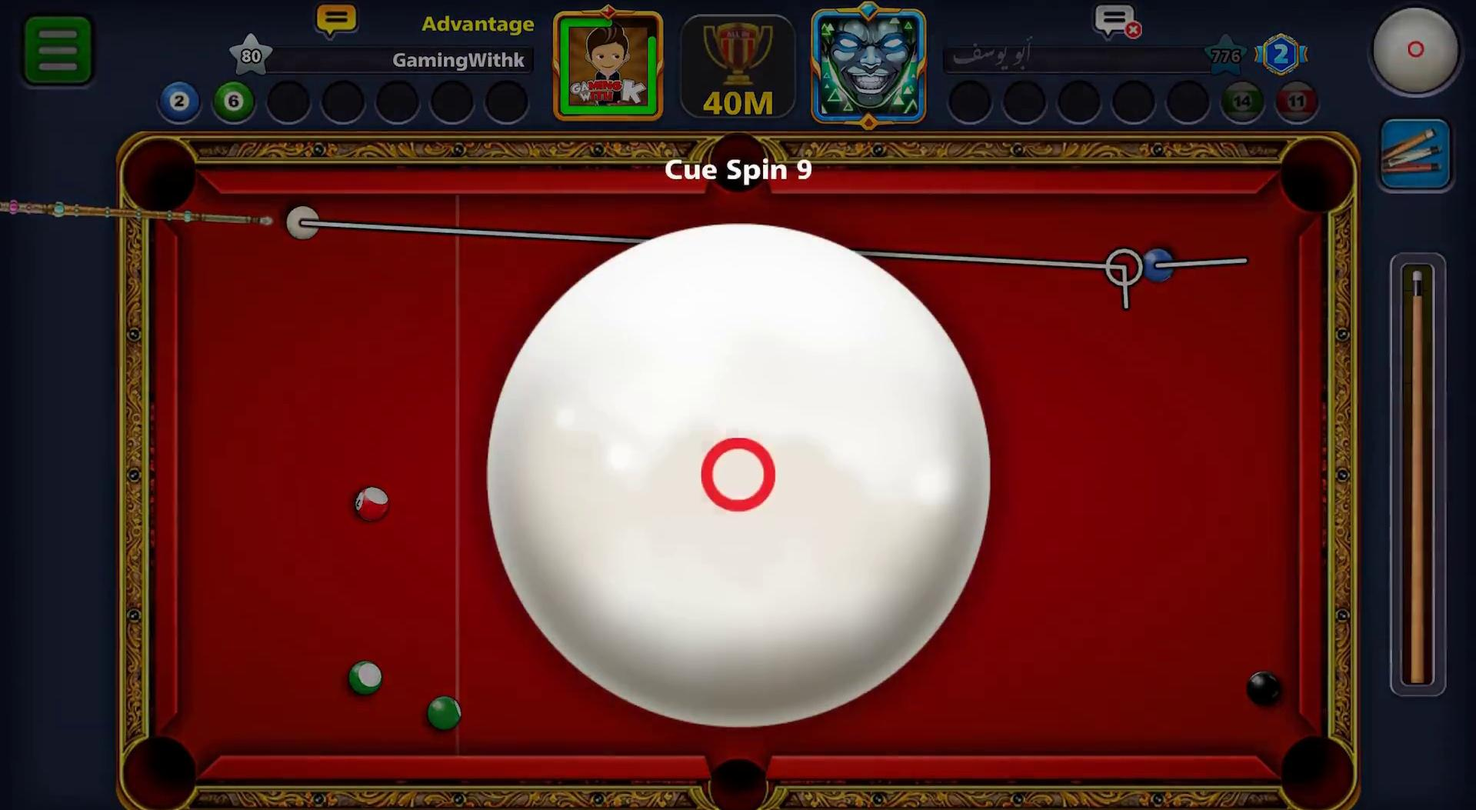Ball: (1241, 661, 1288, 707), (425, 688, 467, 734), (343, 652, 384, 698), (352, 482, 388, 524), (1138, 245, 1176, 283)
Force: (1391, 252, 1448, 711)
Guideline: (304, 211, 1253, 321)
Hole: (108, 715, 221, 809), (1259, 715, 1371, 809), (115, 121, 209, 228), (1274, 134, 1358, 221), (701, 117, 775, 211), (696, 738, 780, 809)
Play_Area: (175, 208, 1311, 755)
Spin: (482, 223, 991, 737), (1364, 2, 1467, 101)
White: (281, 203, 322, 245)
